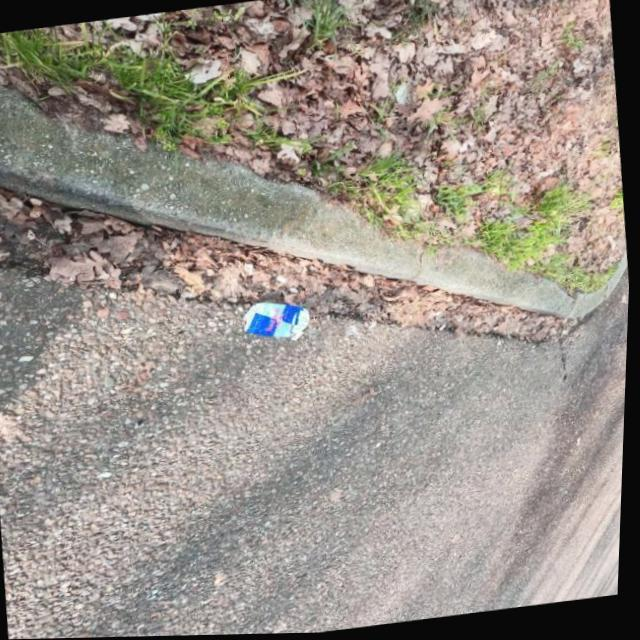Can-Metal: (242, 296, 318, 353)
